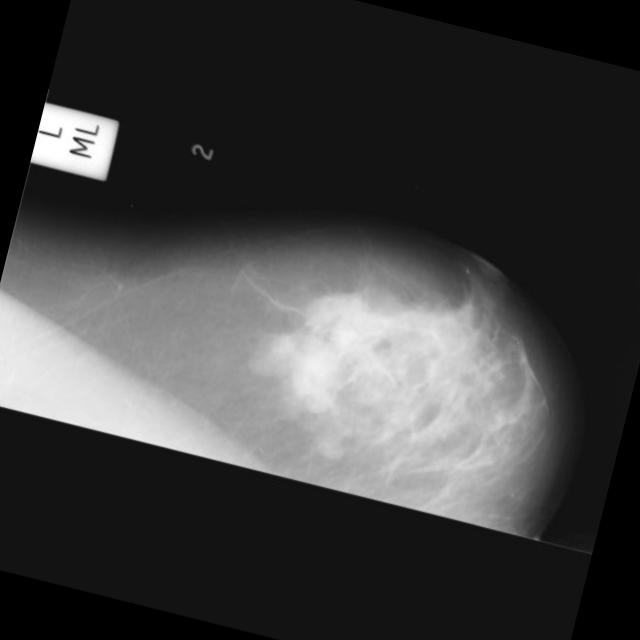MISC: (270, 326, 362, 416)
